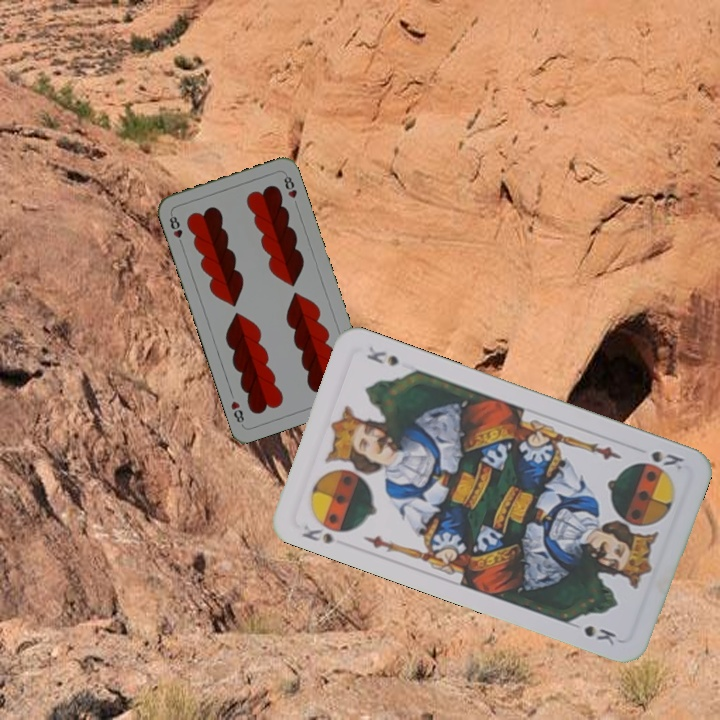H8: (165, 210, 186, 249)
SK: (647, 446, 687, 473), (297, 520, 336, 547)
